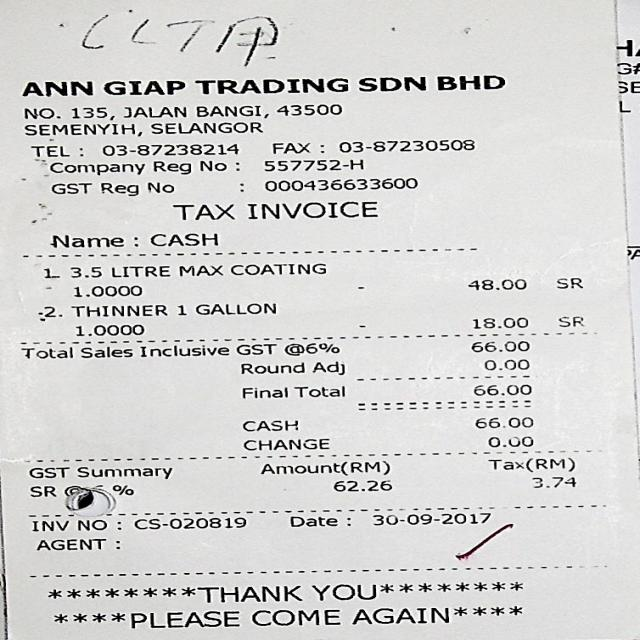text: (194, 77, 346, 94), (246, 200, 376, 218), (263, 177, 416, 191), (350, 604, 450, 624), (196, 585, 301, 604), (128, 610, 238, 628), (259, 460, 388, 475), (23, 120, 138, 136), (337, 139, 473, 152), (102, 143, 237, 156), (147, 120, 261, 134), (372, 512, 489, 525), (133, 516, 245, 529), (250, 609, 338, 625), (44, 162, 144, 175), (487, 457, 573, 472), (263, 158, 362, 171), (310, 582, 379, 600), (102, 80, 183, 95), (19, 339, 72, 361), (68, 304, 165, 316), (229, 262, 324, 274), (170, 202, 233, 220), (76, 466, 170, 478), (436, 74, 504, 90), (19, 81, 91, 96), (138, 344, 228, 356), (241, 438, 328, 450), (195, 104, 268, 118), (358, 76, 424, 91), (48, 234, 122, 247), (194, 302, 274, 314), (148, 232, 216, 246), (74, 284, 140, 297), (73, 324, 143, 336), (239, 361, 303, 374), (81, 341, 129, 358), (35, 538, 107, 549), (282, 342, 338, 355), (274, 104, 340, 115), (469, 340, 528, 352), (121, 106, 185, 117), (473, 416, 531, 428), (332, 479, 390, 491), (111, 265, 168, 277), (468, 278, 524, 290), (474, 384, 530, 396), (289, 515, 349, 526), (270, 142, 322, 154), (69, 106, 113, 120), (26, 517, 70, 531), (471, 317, 526, 328), (241, 420, 296, 431), (293, 385, 343, 397), (487, 436, 534, 448), (176, 264, 222, 276), (98, 182, 136, 196), (76, 518, 120, 530), (152, 160, 189, 174), (483, 359, 528, 370), (241, 387, 286, 398), (234, 343, 275, 355), (531, 477, 575, 488), (50, 182, 90, 194), (28, 466, 68, 478), (310, 361, 343, 375), (30, 146, 70, 157), (23, 107, 58, 119), (555, 315, 583, 328), (68, 266, 100, 277), (198, 160, 226, 172), (36, 306, 60, 320), (30, 485, 54, 498), (554, 277, 582, 288), (107, 484, 132, 495), (146, 182, 172, 192), (42, 268, 58, 278), (177, 304, 185, 315), (132, 236, 136, 246), (238, 182, 242, 191), (111, 497, 114, 503)
